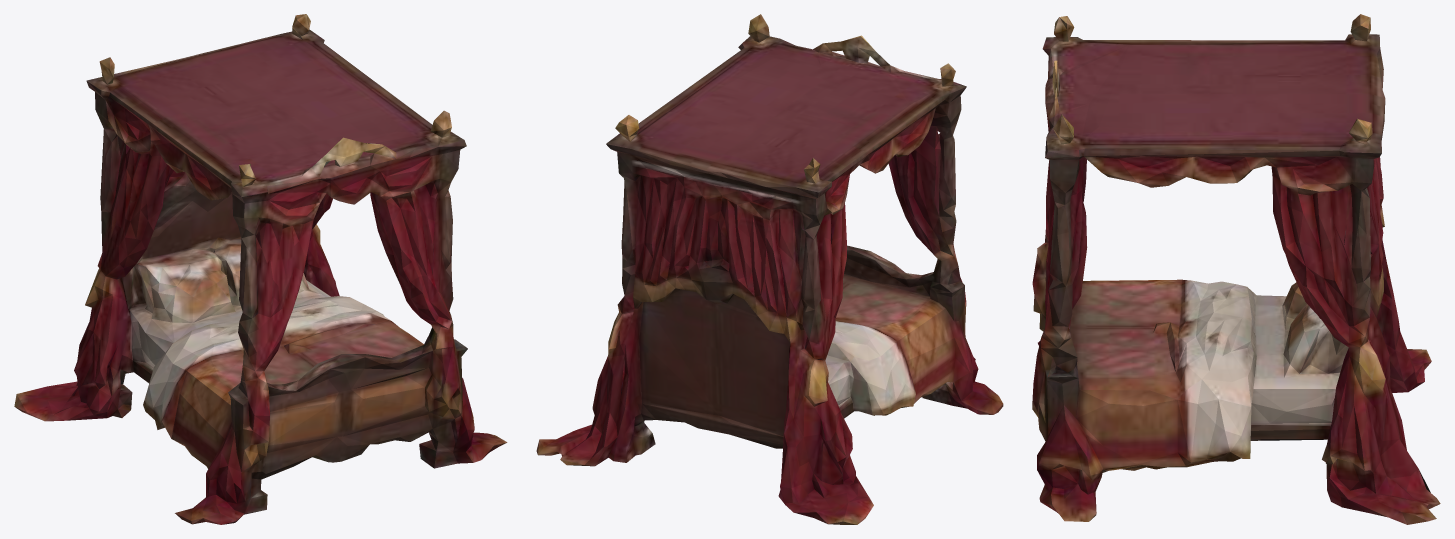
File: meshy_bed_canopy_red_lod0.glb
3 renders of one model, left to right at view 1: azimuth 30°, elevation 25°; view 2: azimuth 150°, elevation 25°; view 3: azimuth 270°, elevation 25°, orthographic. The views are drawn at different scales.
Visible parts, largest first — view 1: meshy_bed_canopy_red; view 2: meshy_bed_canopy_red; view 3: meshy_bed_canopy_red.
Part boxes in pixels (x1=…): meshy_bed_canopy_red: x1=14, y1=14, x2=507, y2=524; meshy_bed_canopy_red: x1=536, y1=14, x2=1003, y2=524; meshy_bed_canopy_red: x1=1032, y1=14, x2=1440, y2=524.
Size of the model in its own units: 2.38 by 2.4 by 2.35.
1 material, 1 textured.
